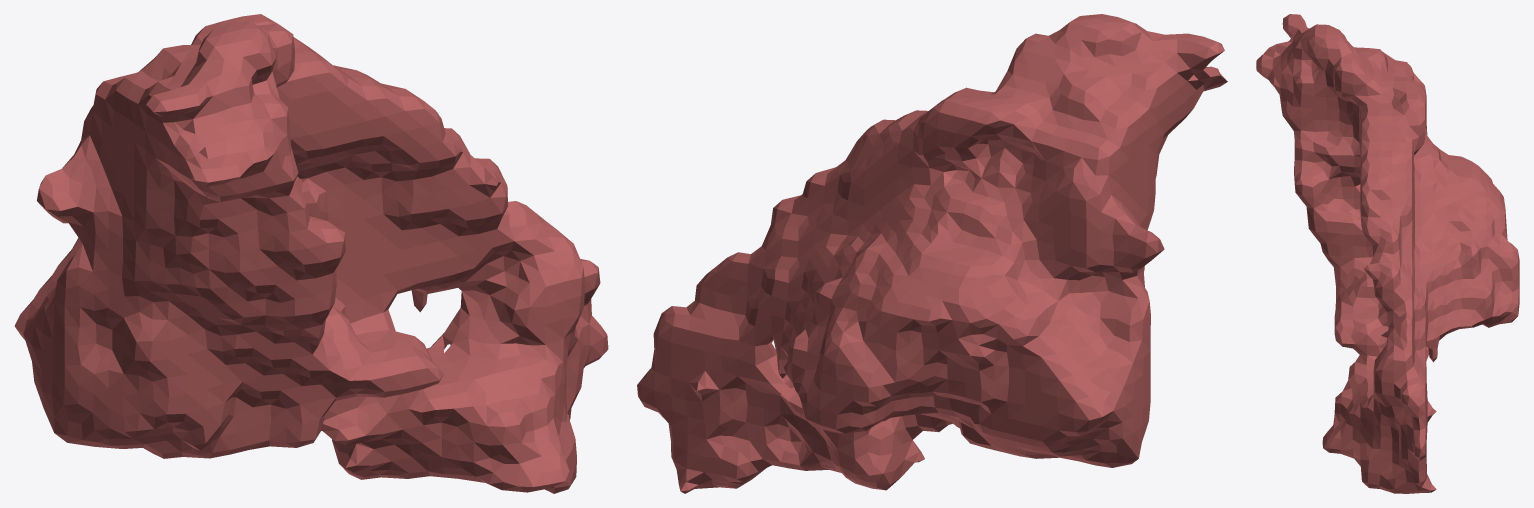
File: aseg_060_Right-VentralDC.glb
3 views of the same model, side by side, from view 1: azimuth 30°, elevation 25°; view 2: azimuth 150°, elevation 25°; view 3: azimuth 270°, elevation 25° (orthographic). The views are drawn at different scales.
Bounding box in the file's own units: 30.65 × 29 × 19.83.
